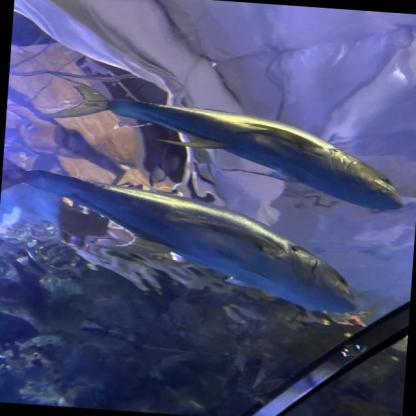fish: (0, 151, 369, 323), (43, 86, 416, 212)
